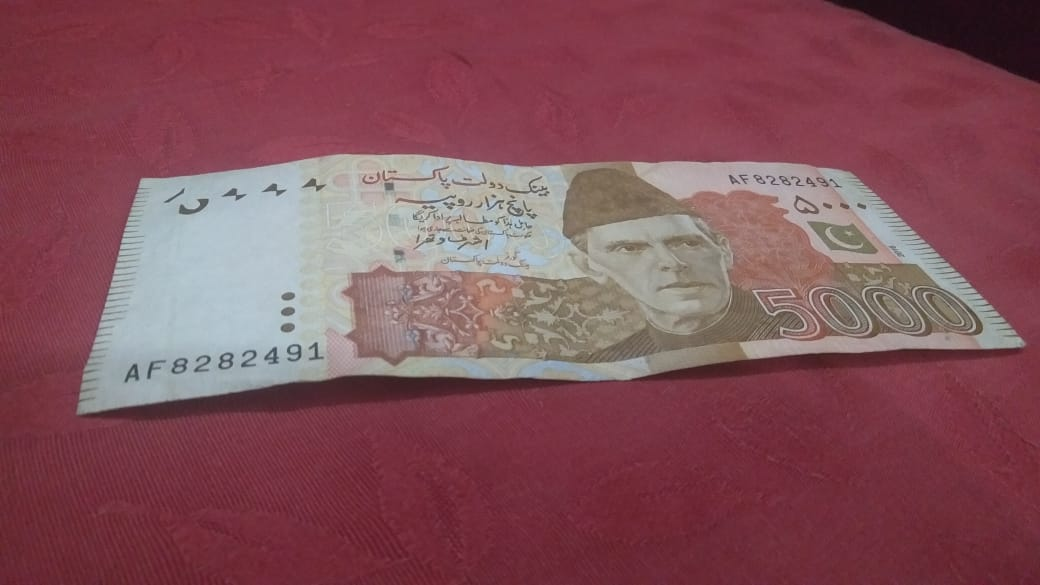5000 rupee: (95, 145, 1015, 431)
